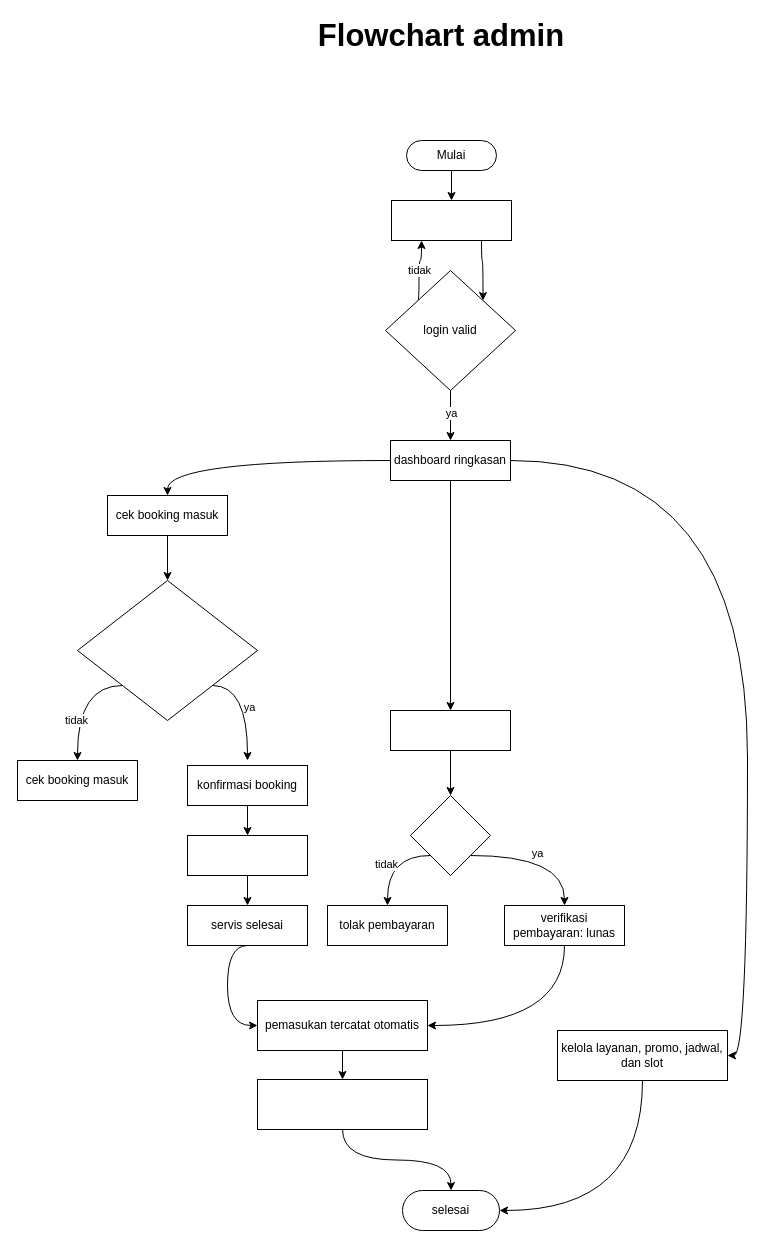
The diagram is 765 pixels wide and 1248 high, and some of its shapes have lost their labels. The shapes that lost their labels are listed below. From the top down, each one's centre as x and y in pixels, then its label:
(451,220): Login admin
(167,650): data valid dan slot tersedia?
(450,730): cek pembayaran masuk
(247,855): atur antrian: antrian dikerjakan
(450,835): bukti valid?
(342,1104): lihat rekap keuangan
